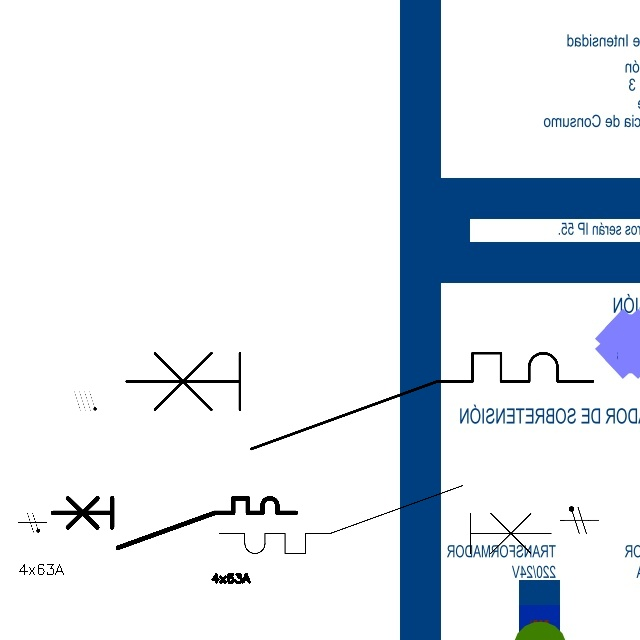interruptor_termomagnetico: (114, 341, 605, 461), (211, 477, 560, 562), (46, 492, 301, 554)
